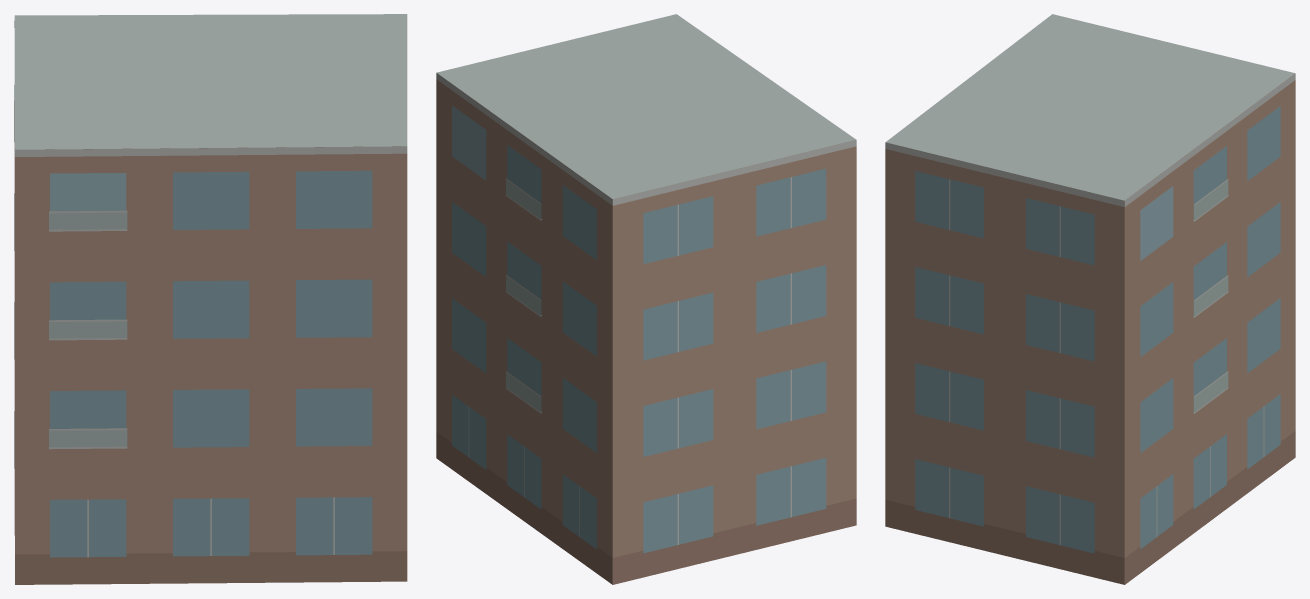
The model's file is survey-upis-32994891.glb.
3 renders of one model, left to right at view 1: azimuth 30°, elevation 25°; view 2: azimuth 150°, elevation 25°; view 3: azimuth 270°, elevation 25°, orthographic. The views are drawn at different scales.
Visible parts, largest first — view 1: survey-upis-32994891.tmp; view 2: survey-upis-32994891.tmp; view 3: survey-upis-32994891.tmp.
Part boxes in pixels (<box>): survey-upis-32994891.tmp: <box>14,14,407,584</box>; survey-upis-32994891.tmp: <box>436,14,856,584</box>; survey-upis-32994891.tmp: <box>885,14,1295,584</box>.
Size of the model in its own units: 15.01 by 14.4 by 13.94.
